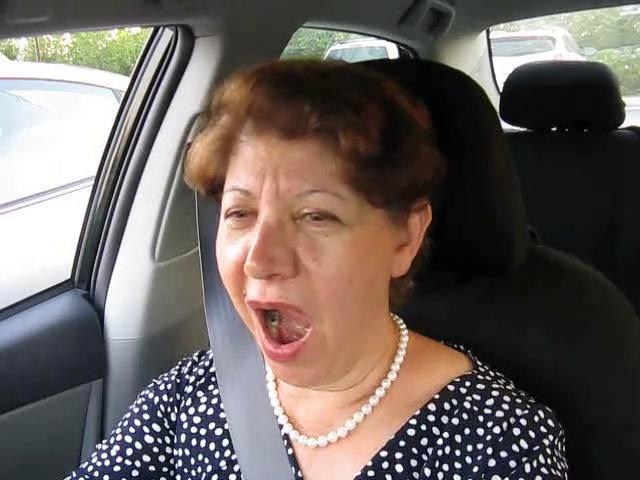close_eyeL: (212, 194, 270, 235)
close_eyeR: (281, 197, 355, 241)
yawn: (232, 295, 329, 364)
